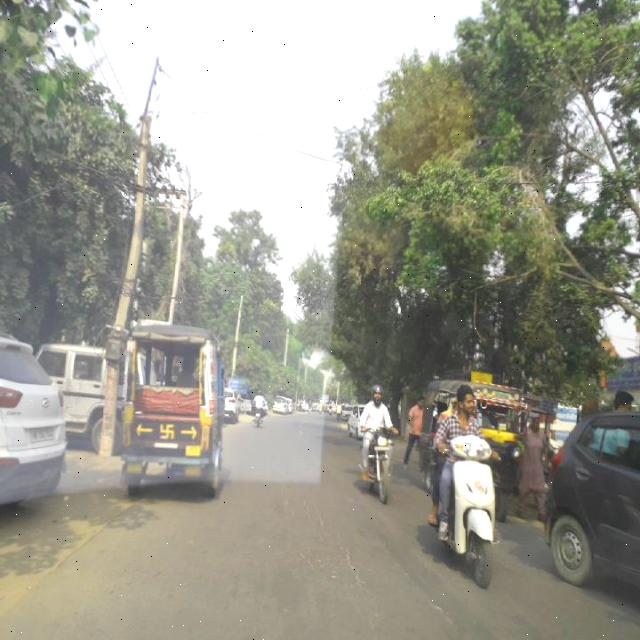D00: (266, 463, 364, 590)
